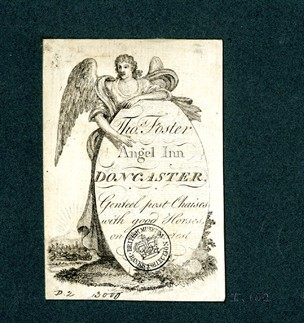angel: (50, 44, 200, 185)
crown: (133, 233, 161, 260)
